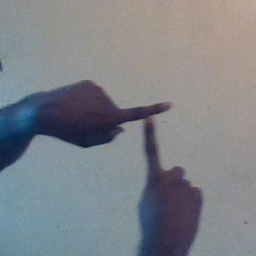T: (98, 84, 202, 198)
